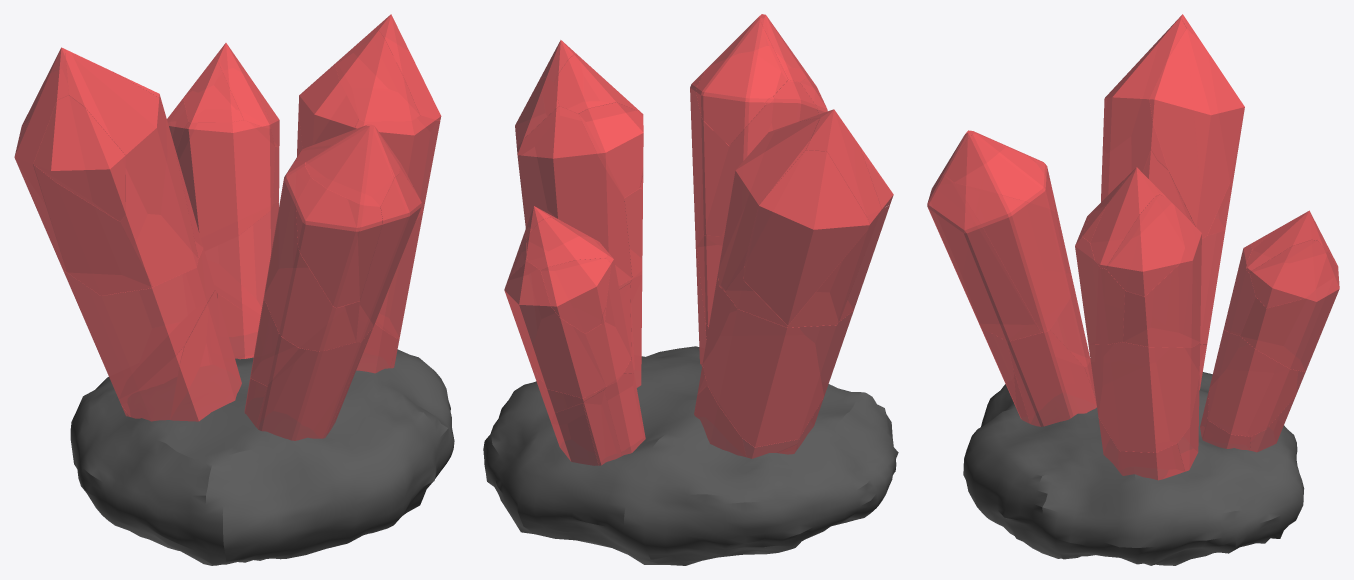
Rendered from crystals-3-red.glb.
3 views of the same model, side by side, from view 1: azimuth 30°, elevation 25°; view 2: azimuth 150°, elevation 25°; view 3: azimuth 270°, elevation 25° (orthographic). The views are drawn at different scales.
Visible parts, largest first — view 1: rock.002, crystal_2, crystal_3, crystal_1.001, crystal_1; view 2: rock.002, crystal_2, crystal_1.001, crystal_1, crystal_3; view 3: rock.002, crystal_1, crystal_3, crystal_2, crystal_1.001.
Part boxes in pixels (x1,y1,x2,y2): rock.002: (70, 349, 454, 565); crystal_2: (14, 47, 241, 421); crystal_3: (244, 124, 421, 440); crystal_1.001: (167, 43, 279, 359); crystal_1: (297, 14, 441, 373); rock.002: (483, 346, 898, 565); crystal_2: (694, 109, 893, 458); crystal_1.001: (504, 206, 645, 465); crystal_1: (515, 40, 643, 387); crystal_3: (690, 14, 827, 366); rock.002: (963, 372, 1304, 565); crystal_1: (1075, 167, 1201, 480); crystal_3: (927, 130, 1096, 426); crystal_2: (1101, 14, 1244, 390); crystal_1.001: (1200, 210, 1339, 452).
Size of the model in its own units: 6.34 by 7.49 by 6.34.
